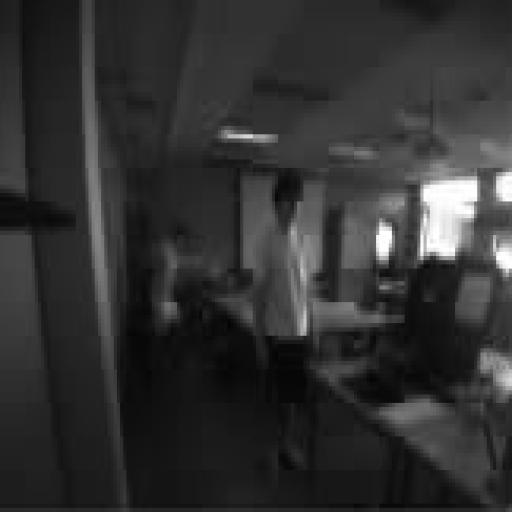human: (253, 173, 312, 470), (152, 236, 180, 365)
